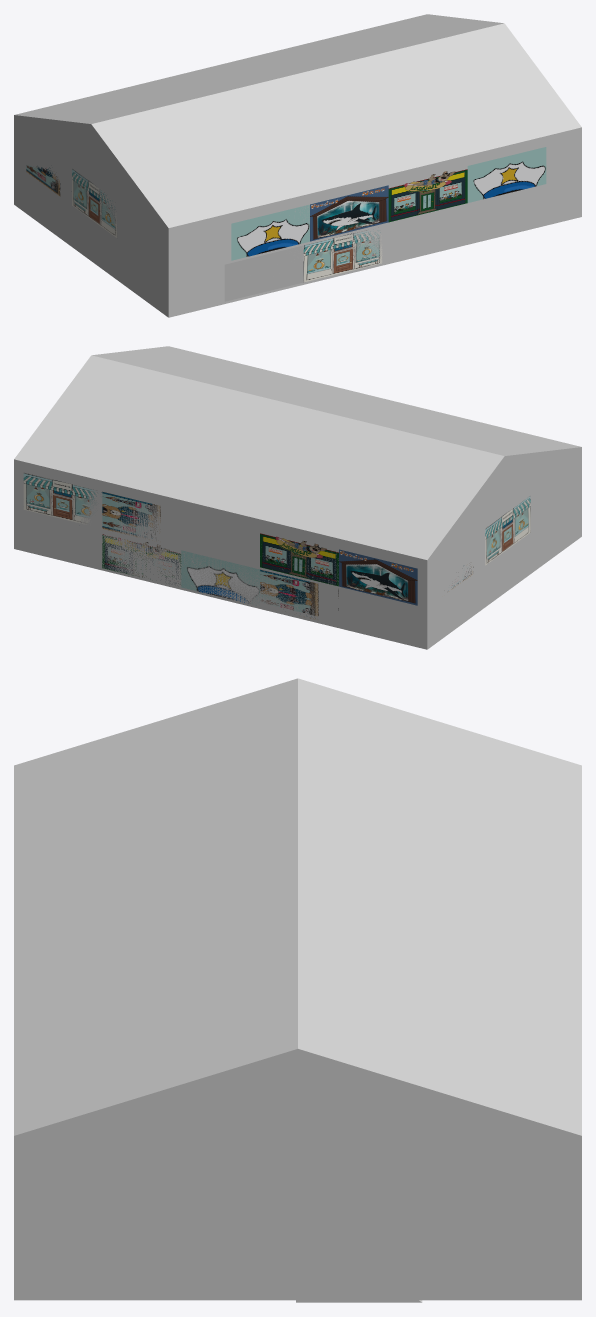
Rendered from building.fbx.
3 renders of one model, top to bottom at view 1: azimuth 30°, elevation 25°; view 2: azimuth 150°, elevation 25°; view 3: azimuth 270°, elevation 25°, orthographic. The views are drawn at different scales.
Parts seen in each view (by area): view 1: roof, Cube.026, Cube.029, Cube.032, Cube.035, Cube.025, Cube.033, Cube.039, building, Cube.038, Cube.036; view 2: roof, Cube.034, Cube.020, Cube.031, Cube.027, Cube.022, Cube.030, Cube.038, Cube.023, building; view 3: roof.
Boxes of the visible parts, bbox=[...] form: roof: bbox=[14, 14, 581, 316]; Cube.026: bbox=[224, 245, 303, 301]; Cube.029: bbox=[467, 147, 546, 202]; Cube.032: bbox=[310, 185, 388, 241]; Cube.035: bbox=[231, 205, 309, 260]; Cube.025: bbox=[303, 229, 382, 282]; Cube.033: bbox=[388, 169, 467, 222]; Cube.039: bbox=[178, 224, 231, 273]; building: bbox=[14, 202, 581, 317]; Cube.038: bbox=[72, 168, 117, 237]; Cube.036: bbox=[26, 165, 60, 196]; roof: bbox=[14, 346, 581, 649]; Cube.034: bbox=[339, 549, 417, 605]; Cube.020: bbox=[181, 550, 259, 605]; Cube.031: bbox=[260, 533, 338, 586]; Cube.027: bbox=[23, 473, 101, 524]; Cube.022: bbox=[260, 569, 338, 619]; Cube.030: bbox=[102, 491, 160, 541]; Cube.038: bbox=[485, 496, 530, 565]; Cube.023: bbox=[102, 534, 181, 584]; building: bbox=[14, 546, 452, 649]; roof: bbox=[14, 678, 581, 1300].
Size of the model in its own units: 9605 by 3122 by 6224.
